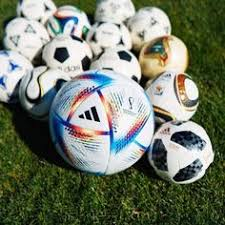football ball: (46, 70, 156, 176), (147, 119, 216, 186), (141, 70, 201, 125), (17, 66, 70, 118), (139, 34, 192, 79), (42, 35, 92, 74), (3, 17, 50, 57), (44, 3, 92, 42), (1, 52, 36, 105), (129, 7, 173, 48), (87, 22, 134, 57), (87, 22, 135, 55), (91, 1, 137, 26), (15, 1, 58, 22)
